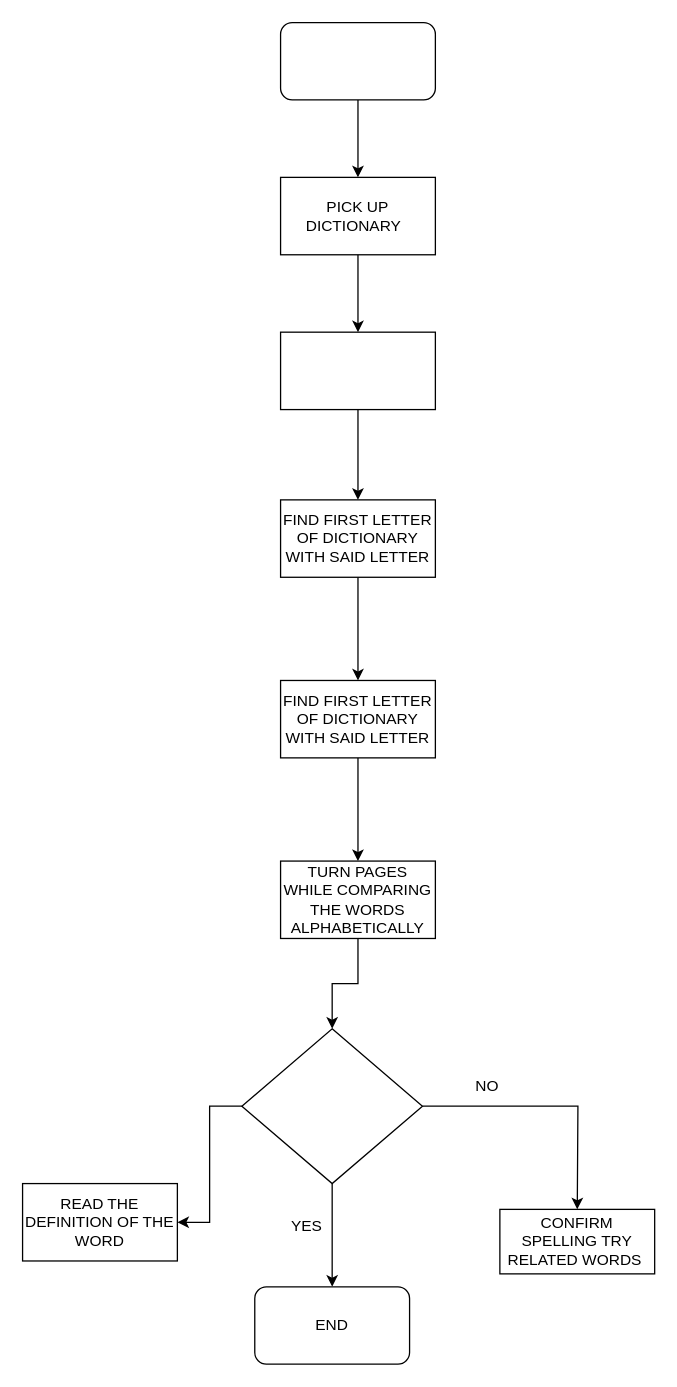
The diagram is 677 pixels wide and 1387 high, and some of its shapes have lost their labels. Here are the shapes that lost their labels. From the top down, the box of each, then its label:
(279, 21, 435, 100): START
(279, 331, 435, 410): OPEN DICTIONARY
(241, 1027, 422, 1184): WAS THE CORRECT WORD FOUND
